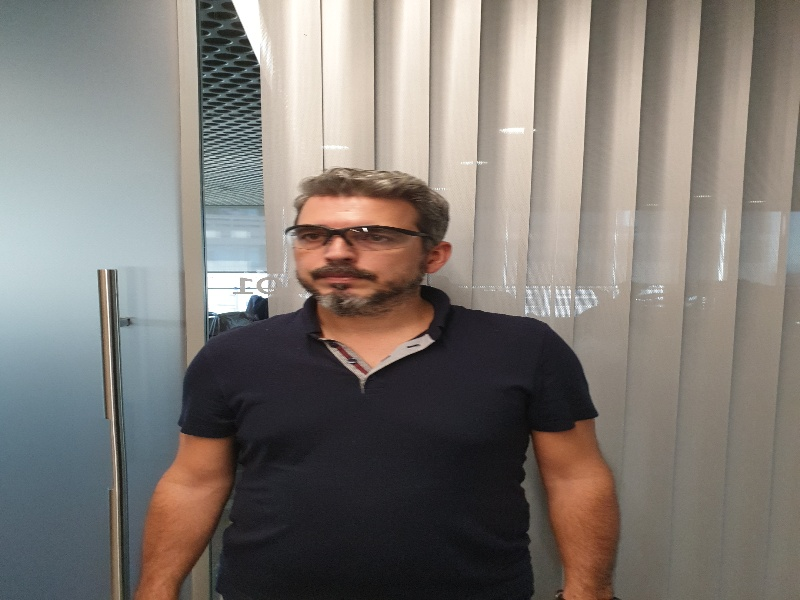Gozluk: (284, 223, 428, 251)
